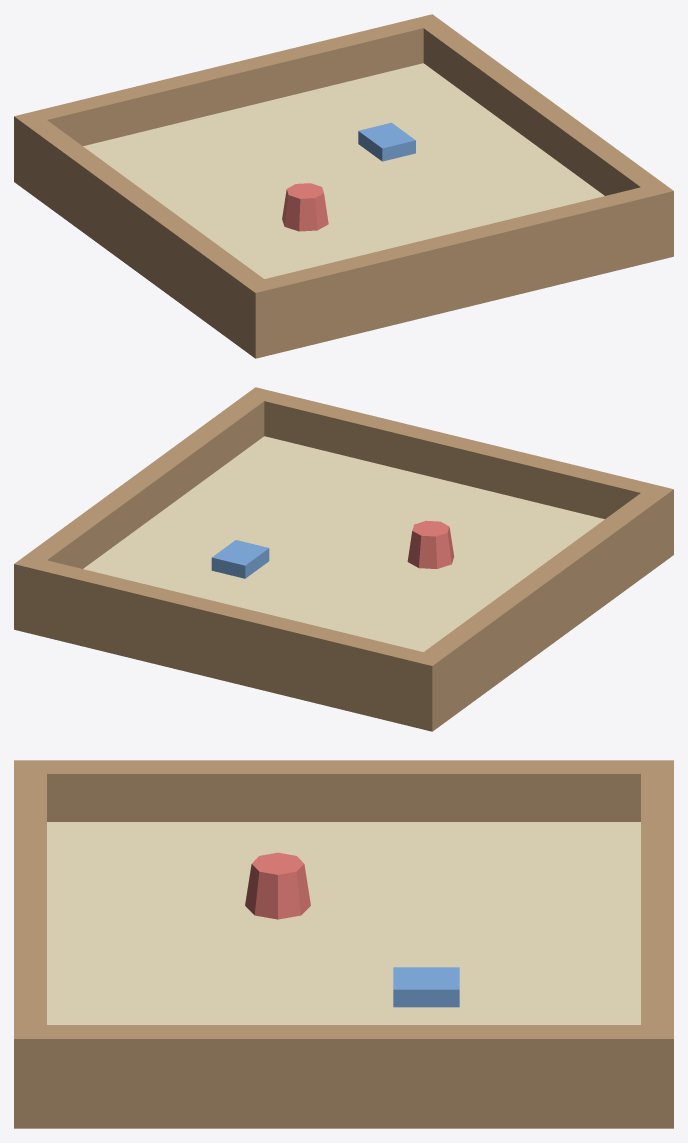
Rendered from sandbox.glb.
3 views of the same model, one above another, from view 1: azimuth 30°, elevation 25°; view 2: azimuth 150°, elevation 25°; view 3: azimuth 270°, elevation 25° (orthographic). The views are drawn at different scales.
Visible parts, largest first — view 1: sandbox; view 2: sandbox; view 3: sandbox.
Part boxes in pixels (bbox=[...]): sandbox: bbox=[14, 14, 673, 358]; sandbox: bbox=[14, 387, 673, 731]; sandbox: bbox=[14, 760, 673, 1128].
Size of the model in its own units: 2 by 0.3 by 2.
